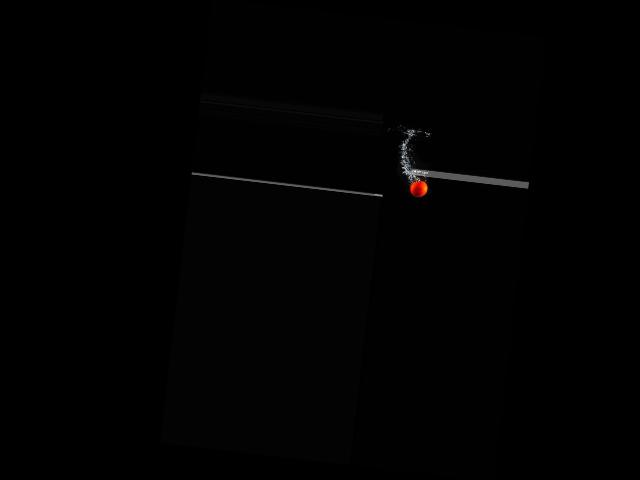tomato: (409, 179, 428, 197)
